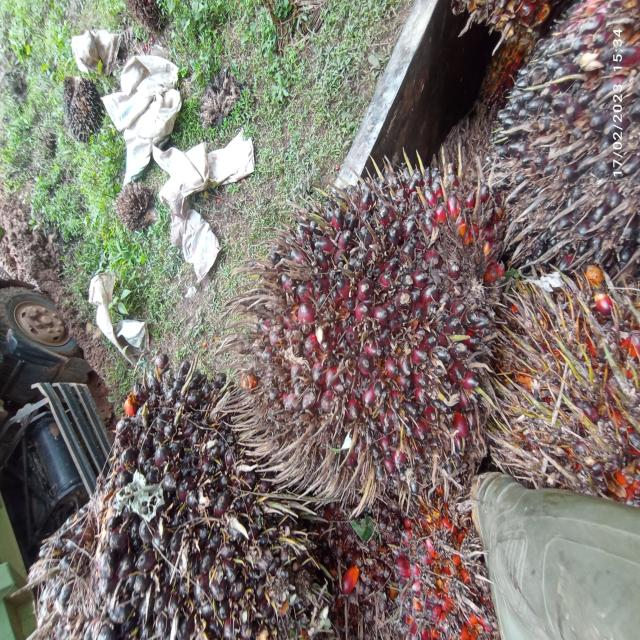fraksi 00: (1, 350, 352, 640)
fraksi 1: (192, 152, 545, 490)
